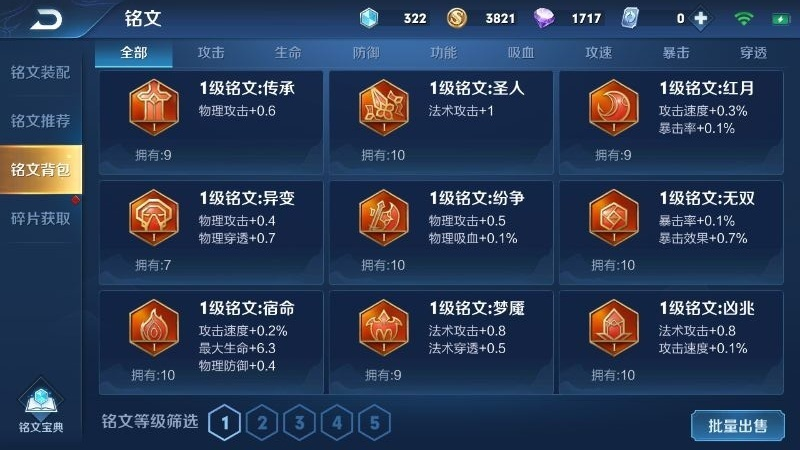return: (17, 2, 72, 36)
tag: (1, 103, 75, 137), (4, 203, 75, 236), (4, 53, 73, 84), (652, 36, 701, 67), (416, 36, 469, 64), (205, 402, 240, 441), (576, 36, 622, 65), (263, 40, 312, 65), (357, 406, 392, 440), (732, 38, 776, 65), (185, 40, 234, 64), (344, 40, 390, 65), (500, 40, 543, 65), (321, 407, 352, 436), (248, 403, 273, 436), (288, 406, 312, 437)
